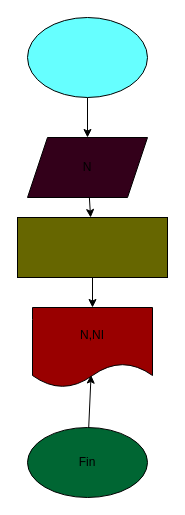
Image size: 185x515. Some labels were removed from this diagram. Each missing label, with the centre of its shape:
"inicio" belongs at pixel 87 57.
"N = 137 NI = 731 = 700 + 30 +1" belongs at pixel 92 247.
